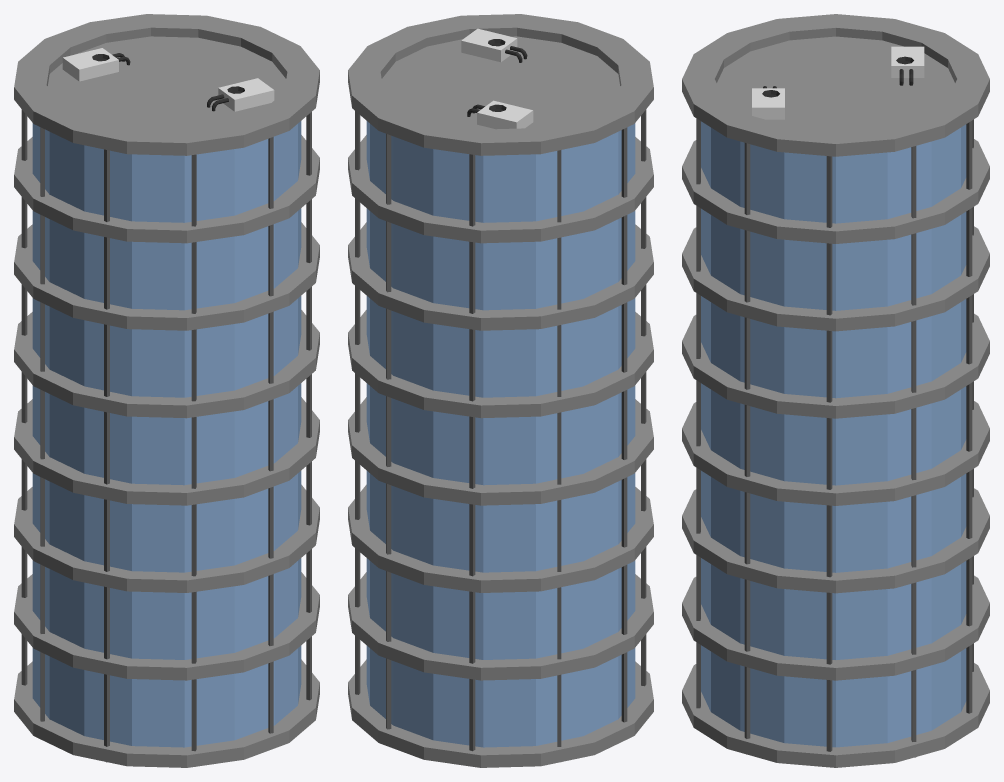
Rendered from Skyscraper 2.fbx.
The picture shows the model from 3 angles, left to right: view 1: azimuth 30°, elevation 25°; view 2: azimuth 150°, elevation 25°; view 3: azimuth 270°, elevation 25°; orthographic projection.
Parts seen in each view (by area): view 1: Skyscraper 2; view 2: Skyscraper 2; view 3: Skyscraper 2.
Part boxes in pixels (<box>): Skyscraper 2: <box>14,14,319,767</box>; Skyscraper 2: <box>348,14,653,767</box>; Skyscraper 2: <box>682,14,989,767</box>.
Bounding box in the file's own units: 708 × 1597 × 708.
